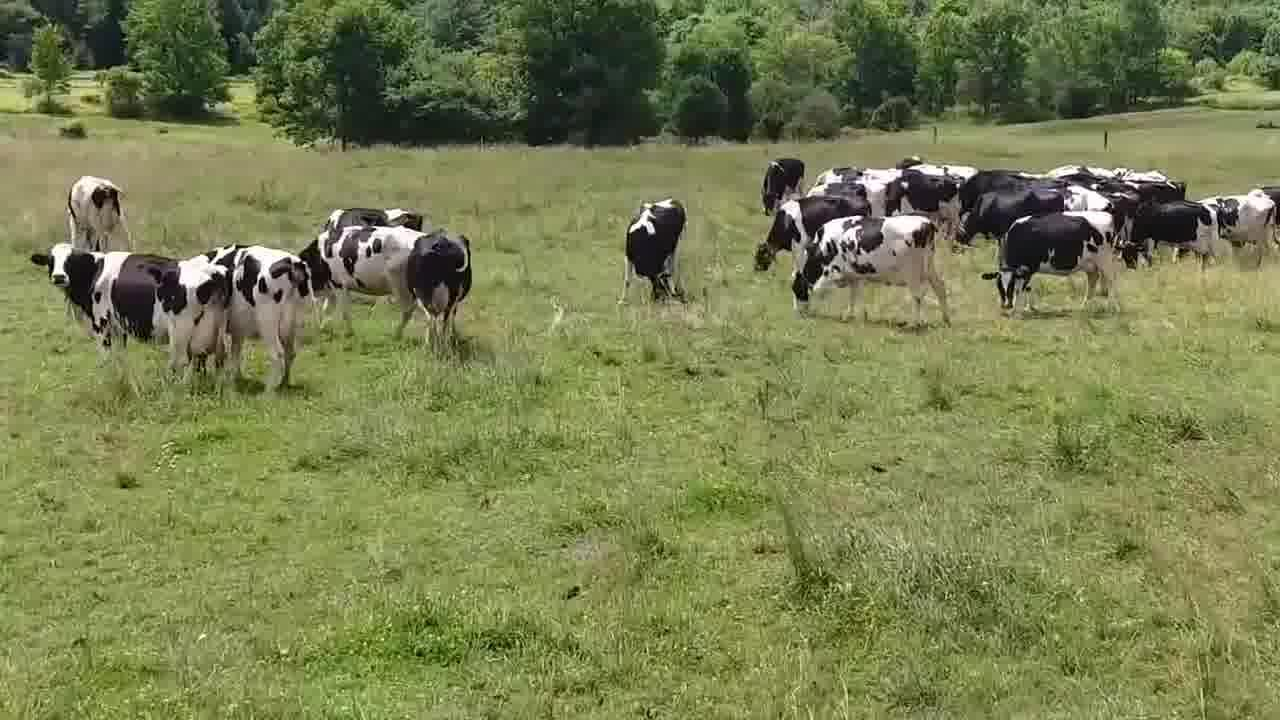cow: (33, 236, 232, 395), (787, 211, 955, 332), (197, 239, 309, 402), (294, 220, 421, 351), (980, 204, 1118, 321), (747, 189, 869, 277), (610, 195, 690, 311), (1116, 193, 1222, 277), (409, 226, 474, 359), (58, 178, 148, 255), (1204, 189, 1277, 267), (323, 202, 428, 235), (755, 154, 808, 209)
